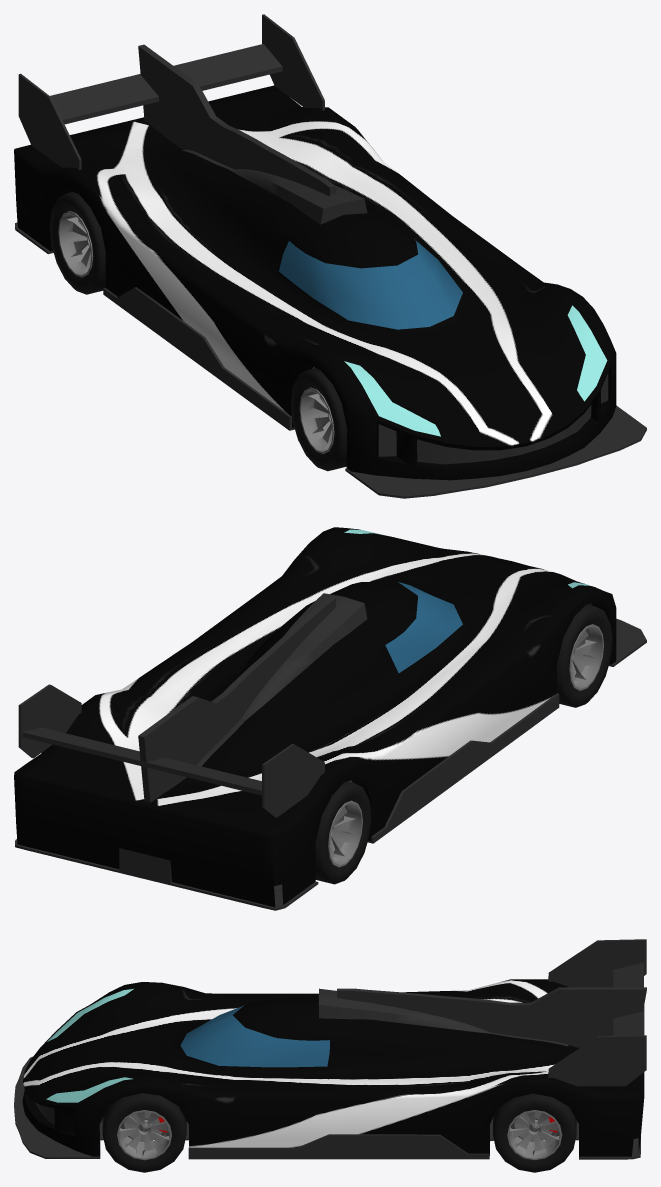
Rendered from batmovel.glb.
3 views of the same model, one above another, from view 1: azimuth 30°, elevation 25°; view 2: azimuth 150°, elevation 25°; view 3: azimuth 270°, elevation 25° (orthographic). The views are drawn at different scales.
Parts seen in each view (by area): view 1: Body, RearWing, FR_Tire, RR_Tire, RR_Rim, FR_Rim; view 2: Body, RearWing, RR_Tire, FR_Tire, RR_Rim, FR_Rim; view 3: Body, RearWing, FL_Tire, RL_Tire, RL_Rim, FL_Rim.
Boxes of the visible parts, x1,y1,x2,y2 form: Body: (14, 44, 646, 498); RearWing: (18, 14, 324, 170); FR_Tire: (291, 368, 347, 471); RR_Tire: (49, 192, 105, 294); RR_Rim: (58, 211, 93, 277); FR_Rim: (299, 387, 334, 453); Body: (14, 527, 646, 910); RearWing: (18, 684, 324, 817); RR_Tire: (315, 781, 371, 884); FR_Tire: (557, 604, 612, 707); RR_Rim: (328, 800, 362, 867); FR_Rim: (569, 624, 603, 690); Body: (14, 979, 646, 1159); RearWing: (548, 939, 646, 1086); FL_Tire: (102, 1093, 186, 1172); RL_Tire: (493, 1093, 576, 1172); RL_Rim: (507, 1110, 562, 1160); FL_Rim: (117, 1110, 171, 1160).
Bounding box in the file's own units: 2.62 × 1.5 × 6.51.
Materials: 8 (1 with a texture image).
